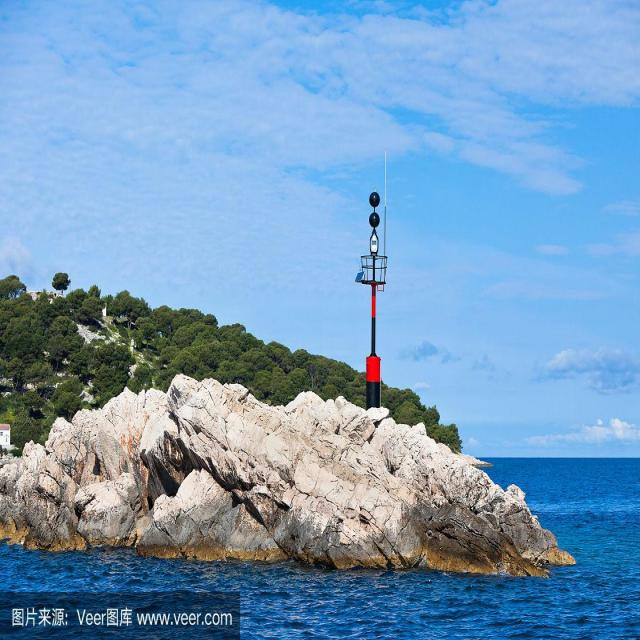island: (1, 263, 570, 594)
